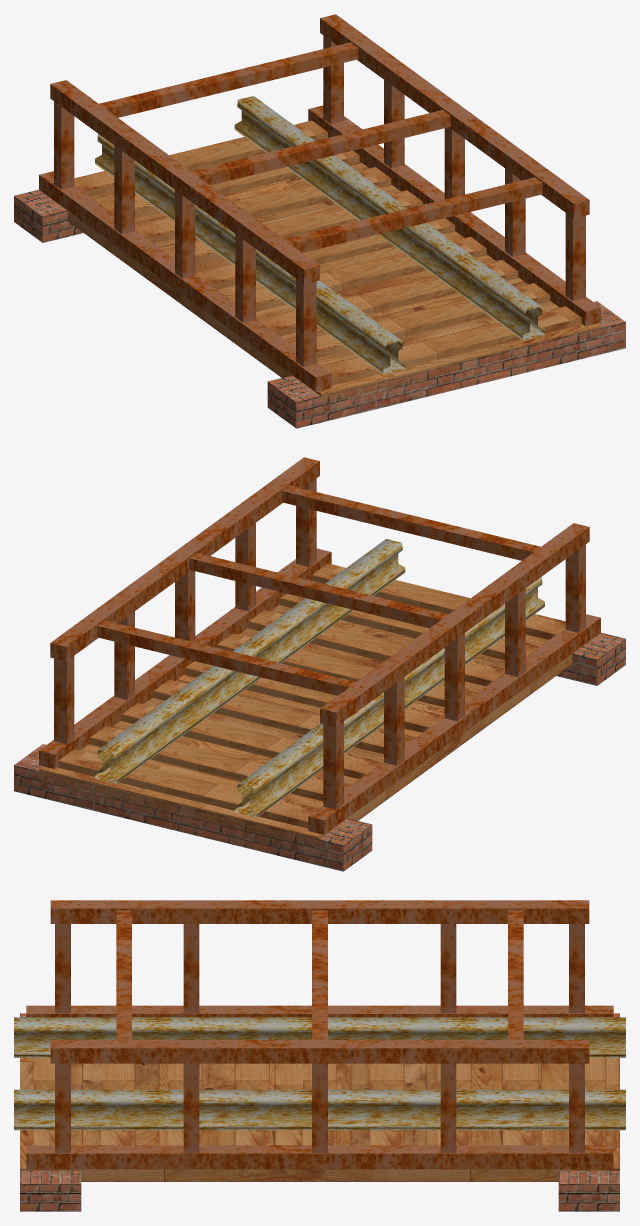
Rendered from track_bridge.glb.
The picture shows the model from 3 angles, top to bottom: view 1: azimuth 30°, elevation 25°; view 2: azimuth 150°, elevation 25°; view 3: azimuth 270°, elevation 25°; orthographic projection. The views are drawn at different scales.
Visible parts, largest first — view 1: RootNode; view 2: RootNode; view 3: RootNode.
Part boxes in pixels (box(x1,y1,x2,y2)): RootNode: box(14, 14, 625, 428); RootNode: box(14, 457, 625, 871); RootNode: box(14, 900, 625, 1211).
Bounding box in the file's own units: 0.66 × 0.274 × 1.
4 materials, 4 textured.
